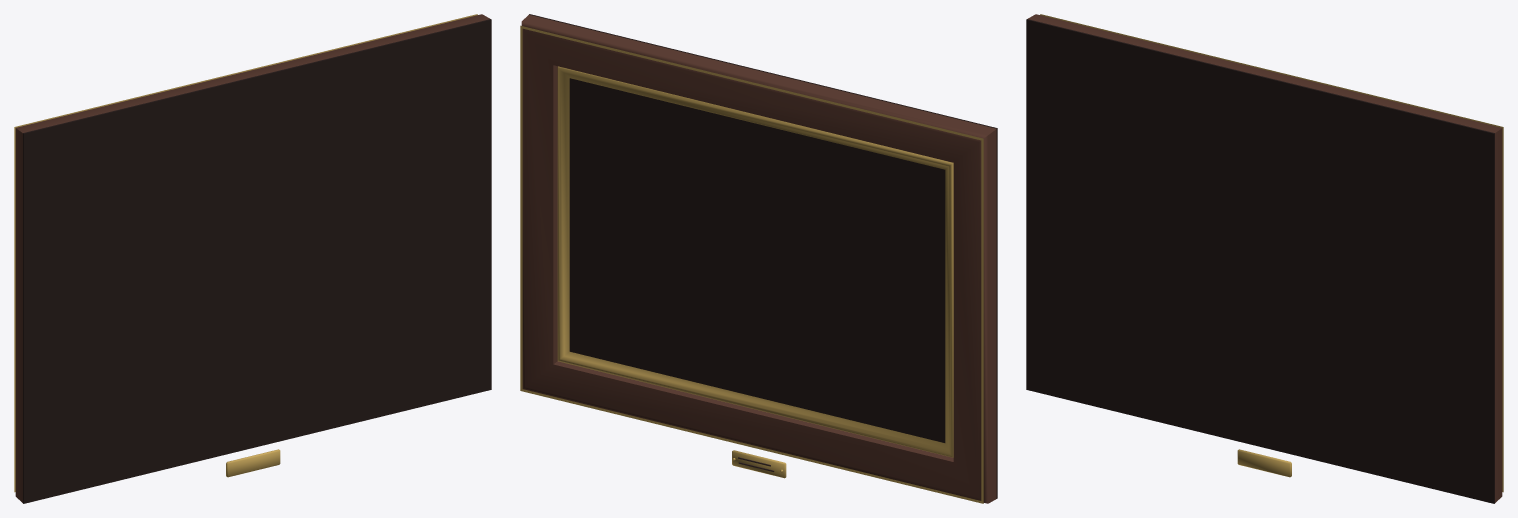
File: walnut_gold_land.glb
3 views of the same model, side by side, from view 1: azimuth 30°, elevation 25°; view 2: azimuth 150°, elevation 25°; view 3: azimuth 330°, elevation 25° (orthographic).
Visible parts, largest first — view 1: walnut_gold_land; view 2: walnut_gold_land; view 3: walnut_gold_land.
Part boxes in pixels (<box>): walnut_gold_land: <box>14,14,491,503</box>; walnut_gold_land: <box>520,14,997,503</box>; walnut_gold_land: <box>1026,14,1503,503</box>.
Size of what is drawn, in the model's own units: 1.22 by 0.987 by 0.053.
